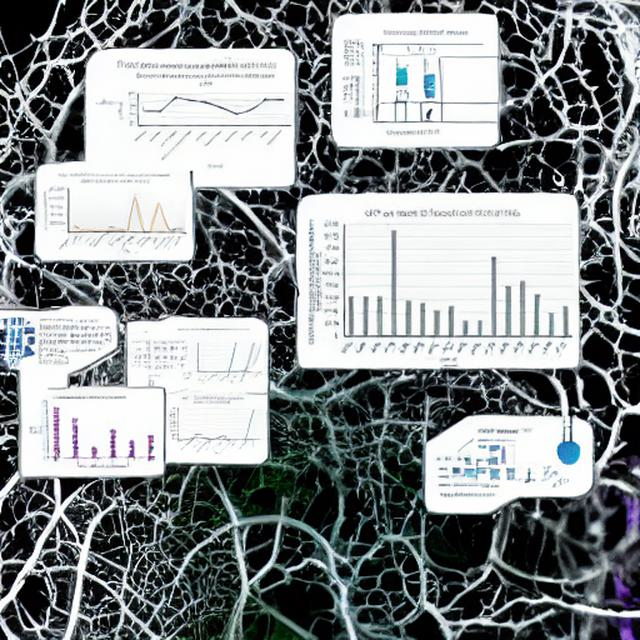Graph: (304, 204, 576, 366), (116, 70, 292, 169), (40, 169, 188, 258), (25, 391, 163, 472), (167, 395, 259, 456)
